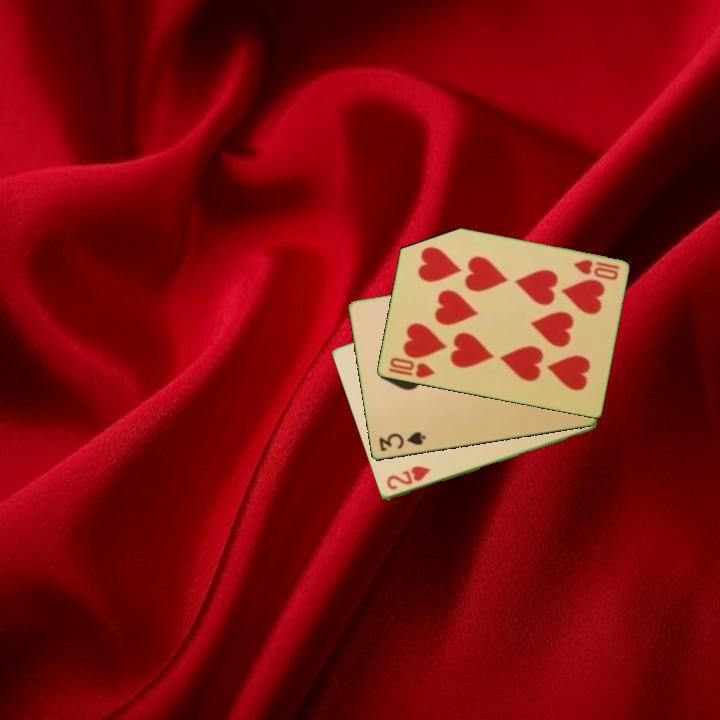10h: (384, 354, 438, 381), (569, 256, 622, 283)
2h: (382, 463, 434, 493)
3s: (375, 428, 428, 455)
